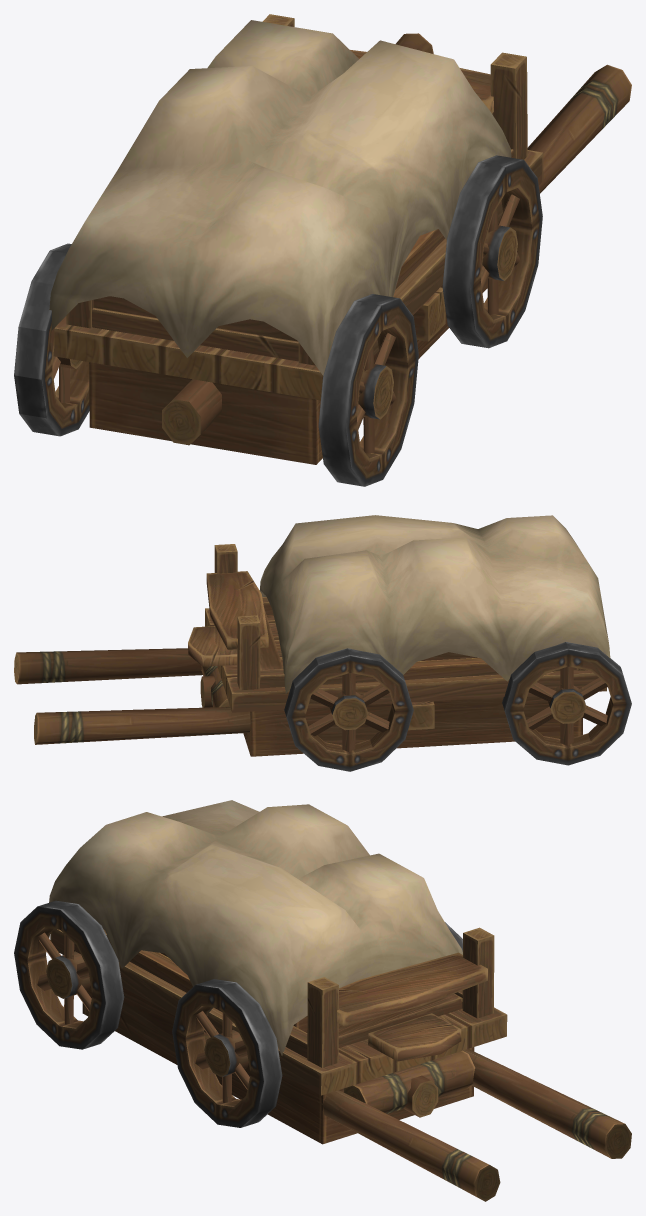
3 renders of one model, top to bottom at view 1: azimuth 30°, elevation 25°; view 2: azimuth 150°, elevation 25°; view 3: azimuth 270°, elevation 25°, orthographic. The views are drawn at different scales.
Visible parts, largest first — view 1: polySurface1206, wheel002, wheel001; view 2: polySurface1206, wheel001, wheel002; view 3: polySurface1206, wheel001, wheel002.
Boxes of the visible parts, box(x1,y1,x2,y2) form: polySurface1206: box(49, 14, 631, 464); wheel002: box(14, 243, 418, 486); wheel001: box(442, 155, 542, 348); polySurface1206: box(14, 515, 610, 756); wheel001: box(284, 648, 413, 771); wheel002: box(502, 642, 631, 765); polySurface1206: box(49, 800, 631, 1201); wheel001: box(172, 922, 462, 1127); wheel002: box(14, 900, 124, 1049).
Size of the model in its own units: 11.23 by 4.11 by 9.98.
